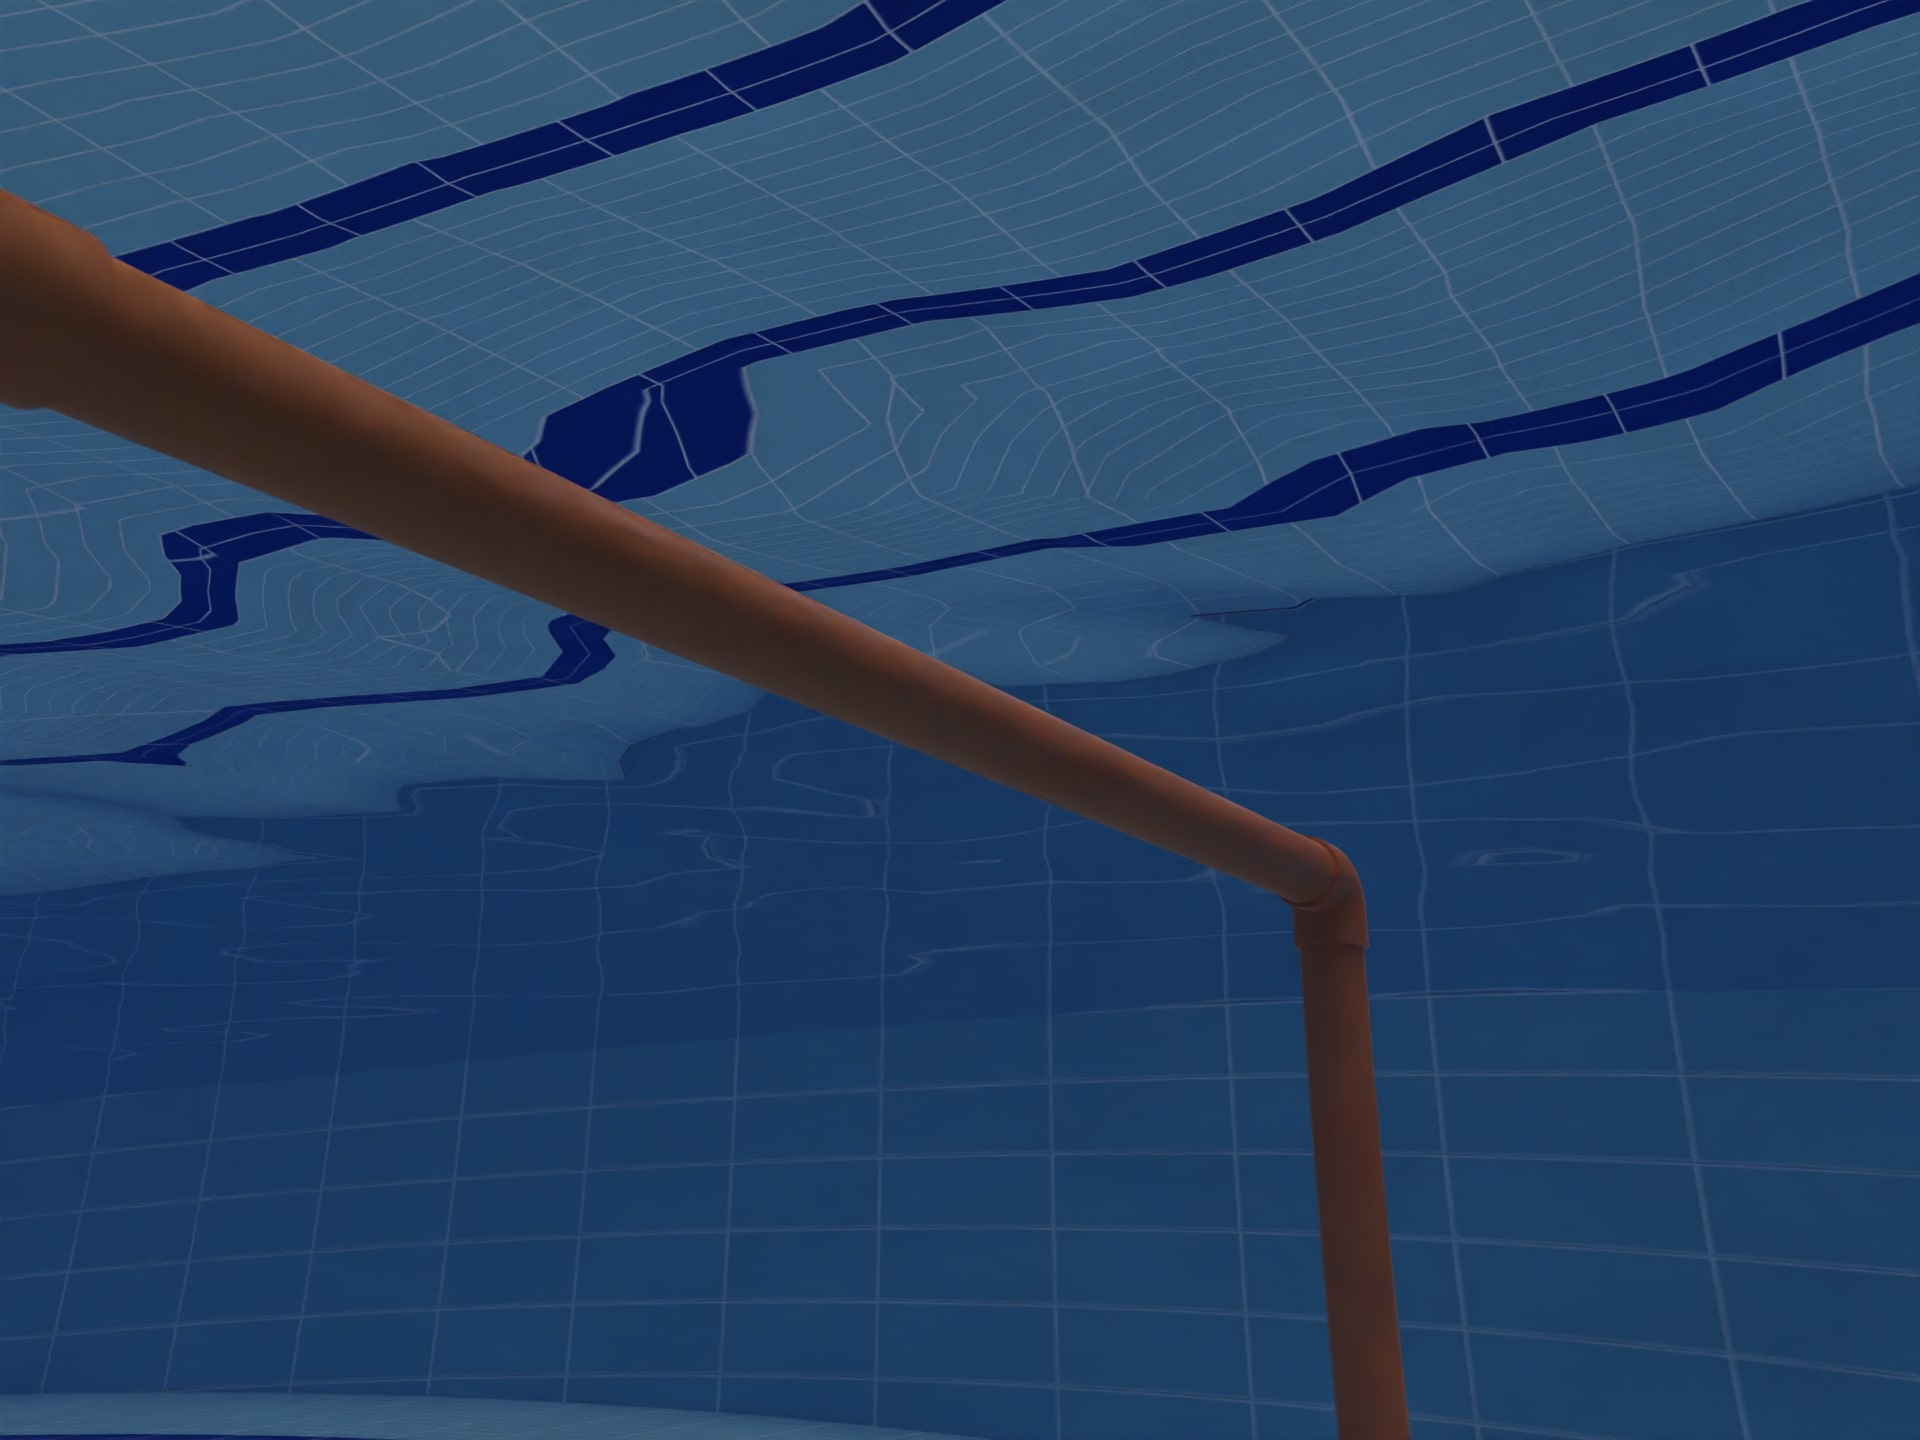gate: (3, 169, 1439, 1440)
